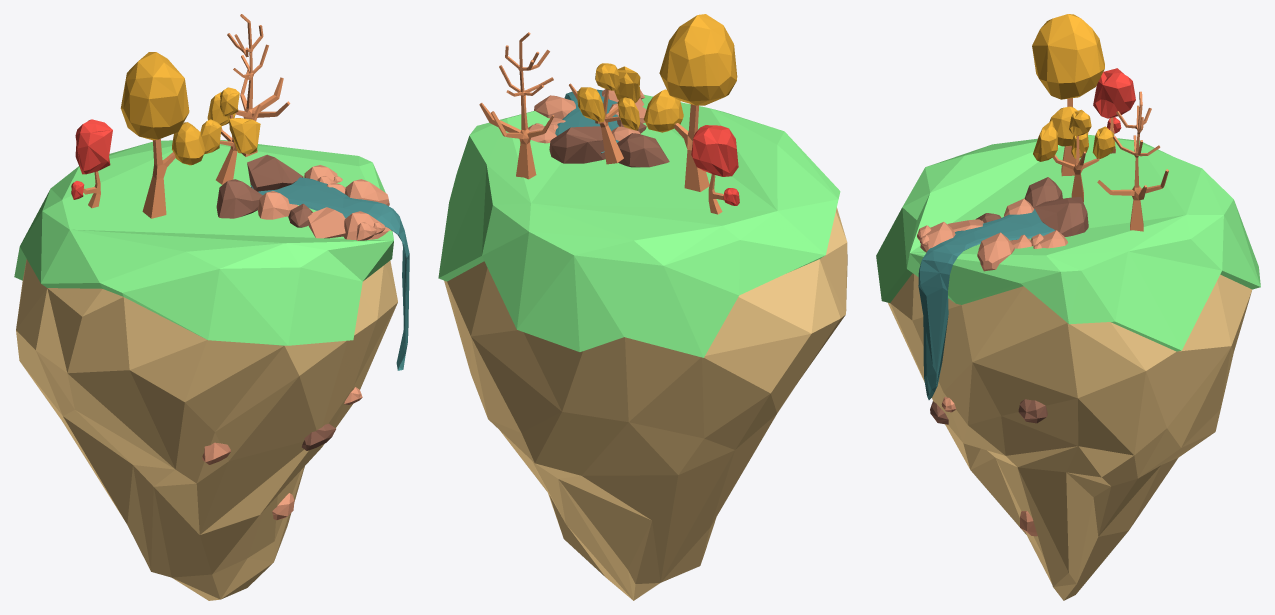
The model's file is island.obj.
3 views of the same model, side by side, from view 1: azimuth 30°, elevation 25°; view 2: azimuth 150°, elevation 25°; view 3: azimuth 270°, elevation 25° (orthographic). The views are drawn at different scales.
Visible parts, largest first — view 1: Base, Top, Cube.001, Water, Tree 2.002, Cube.003, Rock.001, Rock, Tree, Cube.002, Rock.009, Cube.007 (+6 smaller); view 2: Base, Top, Cube.001, Tree 2.002, Cube.003, Rock.001, Rock, Cube.002, Tree, Tree 2.001, Water, Cube.008 (+4 smaller); view 3: Base, Top, Water, Cube.001, Tree 2.002, Cube.003, Rock.001, Rock.008, Rock, Cube.007, Tree 2.001, Cube.002 (+3 smaller).
Part boxes in pixels (<box>): Base: <box>16,259,397,600</box>; Top: <box>14,140,393,345</box>; Cube.001: <box>120,52,189,140</box>; Water: <box>251,177,409,370</box>; Tree 2.002: <box>227,14,290,156</box>; Cube.003: <box>75,119,112,174</box>; Rock.001: <box>247,154,303,191</box>; Rock: <box>216,179,262,218</box>; Tree: <box>142,139,175,218</box>; Cube.002: <box>172,122,205,165</box>; Rock.009: <box>308,207,345,238</box>; Cube.007: <box>229,118,260,154</box>; Base: <box>444,207,847,600</box>; Top: <box>438,94,840,357</box>; Cube.001: <box>659,14,737,105</box>; Tree 2.002: <box>479,32,554,179</box>; Cube.003: <box>691,125,738,176</box>; Rock.001: <box>549,126,615,163</box>; Rock: <box>617,133,669,167</box>; Cube.002: <box>643,89,683,132</box>; Tree: <box>673,104,709,191</box>; Tree 2.001: <box>569,83,623,164</box>; Water: <box>555,89,618,153</box>; Cube.008: <box>577,87,605,122</box>; Base: <box>888,273,1251,600</box>; Top: <box>876,134,1260,351</box>; Water: <box>918,209,1054,399</box>; Cube.001: <box>1032,14,1104,99</box>; Tree 2.002: <box>1097,91,1168,231</box>; Cube.003: <box>1093,68,1135,118</box>; Rock.001: <box>1034,196,1088,236</box>; Rock.008: <box>977,232,1014,271</box>; Rock: <box>1024,177,1062,208</box>; Cube.007: <box>1033,120,1058,161</box>; Tree 2.001: <box>1052,136,1099,202</box>; Cube.002: <box>1049,106,1088,146</box>.
Size of the model in its own units: 1165 by 1771 by 1115.
